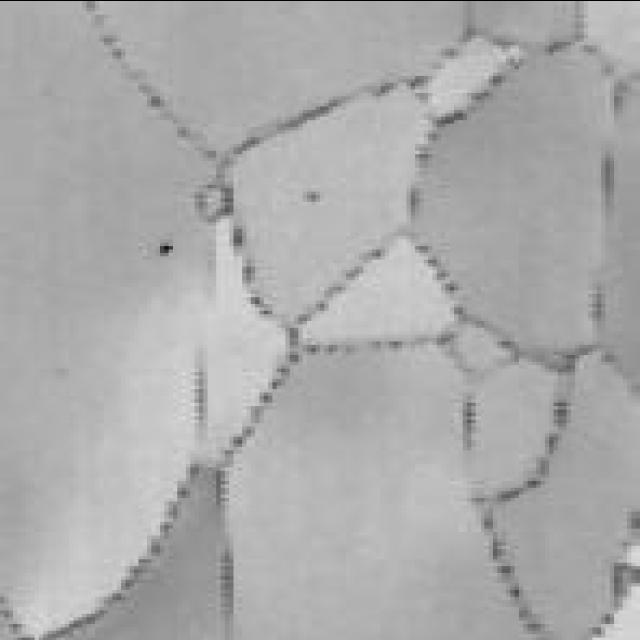good_void: (294, 186, 319, 202), (155, 241, 176, 255)
